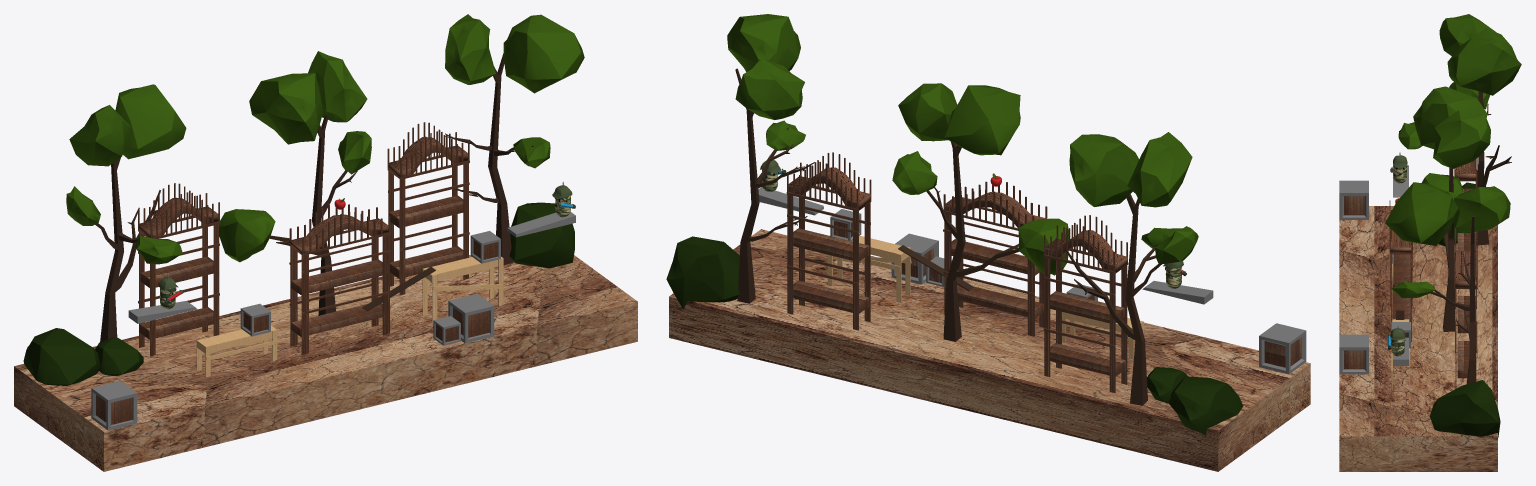
Rendered from PlarformWorms.fbx.
3 views of the same model, side by side, from view 1: azimuth 30°, elevation 25°; view 2: azimuth 150°, elevation 25°; view 3: azimuth 270°, elevation 25° (orthographic). The views are drawn at different scales.
Visible parts, largest first — view 1: Ground, pPlatonic5 (×3), pPlatonic4 (×3), pCube2 (×3), pCube32 (×3), pCube9 (×3), pCube35 (×3), pPlatonic8, BushRight, pPlatonic1 (×3), pPlatonic3, BoxBig1 (+13 smaller); view 2: Ground, pPlatonic5 (×3), pPlatonic4 (×3), pCube2 (×3), BushRight, pCube35 (×3), pCube32 (×3), pCube9 (×3), pPlatonic1 (×3), pPlatonic8, BoxBig1, pPlatonic3 (+8 smaller); view 3: Ground, pPlatonic5 (×3), pPlatonic4 (×3), BushRight, pCube2 (×3), pCube9 (×3), BoxBig, BoxBig1, pCube35 (×3), pCube32 (×2), pPlatonic1 (×2), pPlatonic3 (+5 smaller).
Boxes of the visible parts, x1,y1,x2,y2 form: Ground: (14,255,637,471); pPlatonic5 (×3): (115,14,584,159); pPlatonic4 (×3): (69,14,495,166); pCube2 (×3): (100,53,512,342); pCube32 (×3): (140,195,463,295); pCube9 (×3): (138,137,467,254); pCube35 (×3): (139,246,463,339); pPlatonic8: (23,328,100,385); BushRight: (509,202,574,268); pPlatonic1 (×3): (66,131,550,225); pPlatonic3: (219,209,275,262); BoxBig1: (91,381,137,430); Ground: (669,229,1310,471); pPlatonic5 (×3): (727,14,1138,206); pPlatonic4 (×3): (735,58,1192,207); pCube2 (×3): (735,68,1147,405); BushRight: (666,236,739,309); pCube35 (×3): (793,280,1125,376); pCube32 (×3): (793,228,1124,323); pCube9 (×3): (788,167,1127,273); pPlatonic1 (×3): (766,120,1198,264); pPlatonic8: (1168,376,1243,435); BoxBig1: (1259,323,1306,374); pPlatonic3: (1018,218,1068,275); Ground: (1339,206,1497,471); pPlatonic5 (×3): (1385,28,1521,245); pPlatonic4 (×3): (1433,14,1510,233); BushRight: (1429,380,1500,437); pCube2 (×3): (1443,91,1489,383); pCube9 (×3): (1390,160,1476,288); BoxBig: (1339,334,1368,374); BoxBig1: (1339,180,1368,219); pCube35 (×3): (1392,233,1475,378); pCube32 (×2): (1392,253,1475,333); pPlatonic1 (×2): (1391,82,1490,298); pPlatonic3: (1421,173,1463,194).
Size of the model in its own units: 79.39 by 41.55 by 26.3.
